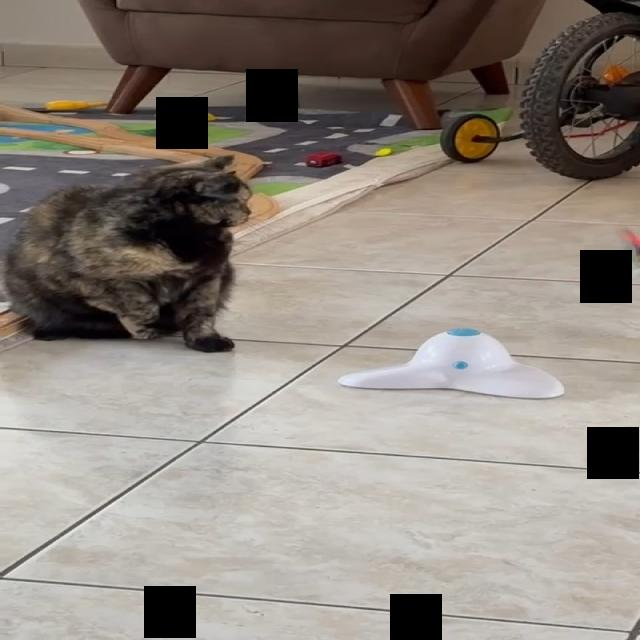authorized: (1, 154, 252, 352)
